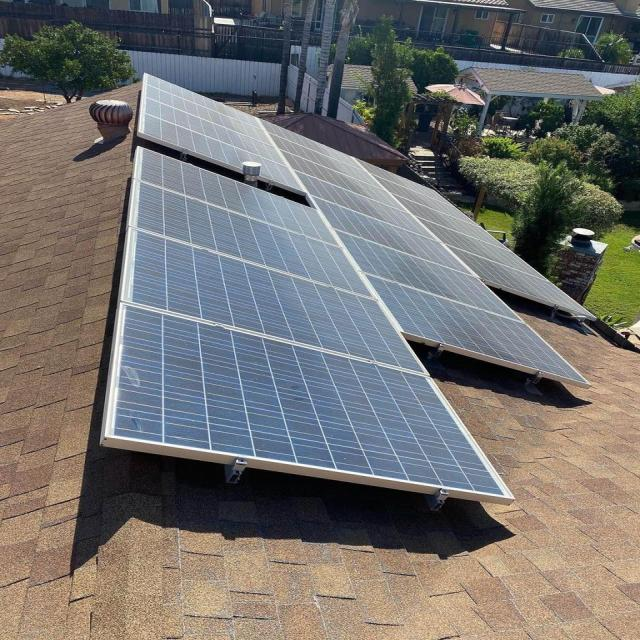dust-solar-panel: (104, 73, 597, 499)
